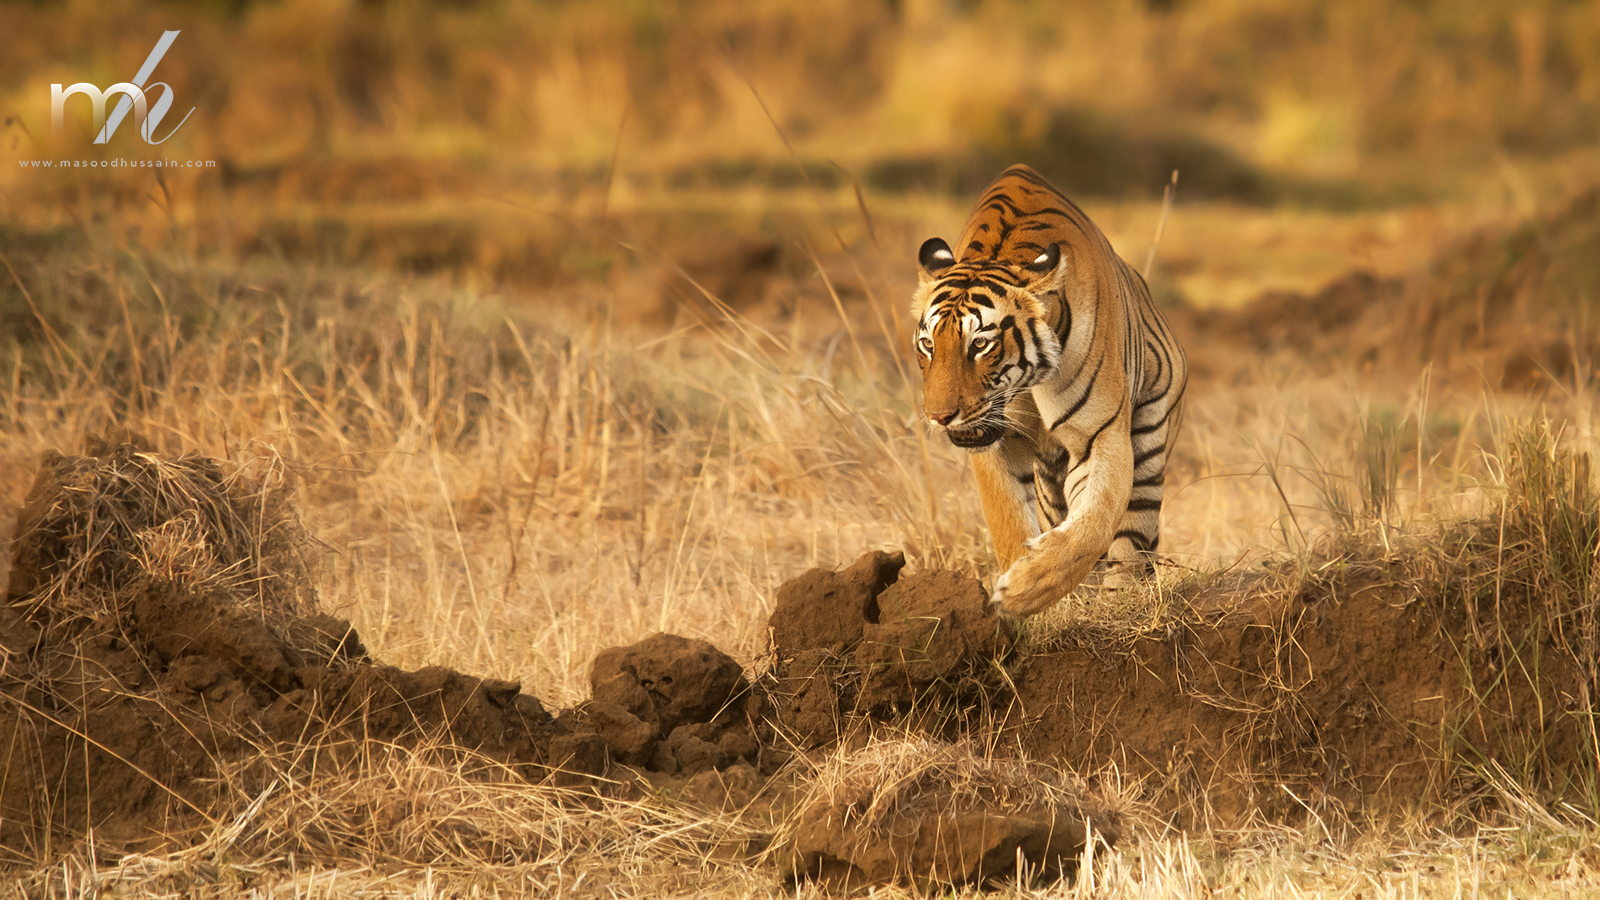tiger: (870, 140, 1251, 646)
